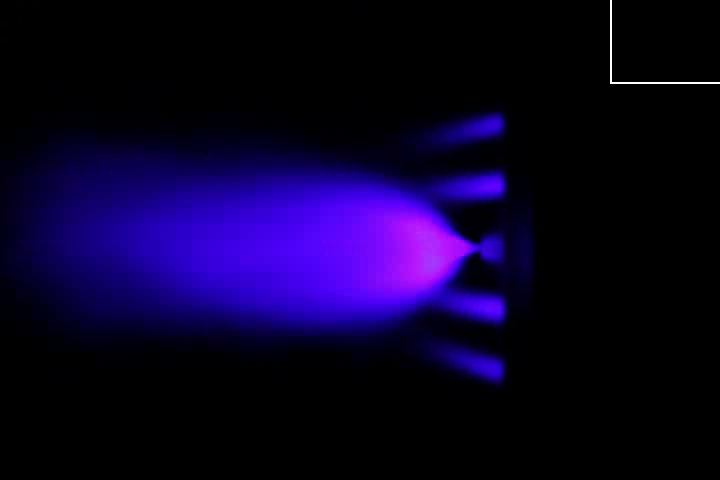burner cap: (479, 229, 513, 273)
pilot flame: (419, 98, 510, 153), (426, 339, 515, 390), (412, 171, 513, 208), (430, 286, 510, 329)
stable: (340, 201, 479, 295)
